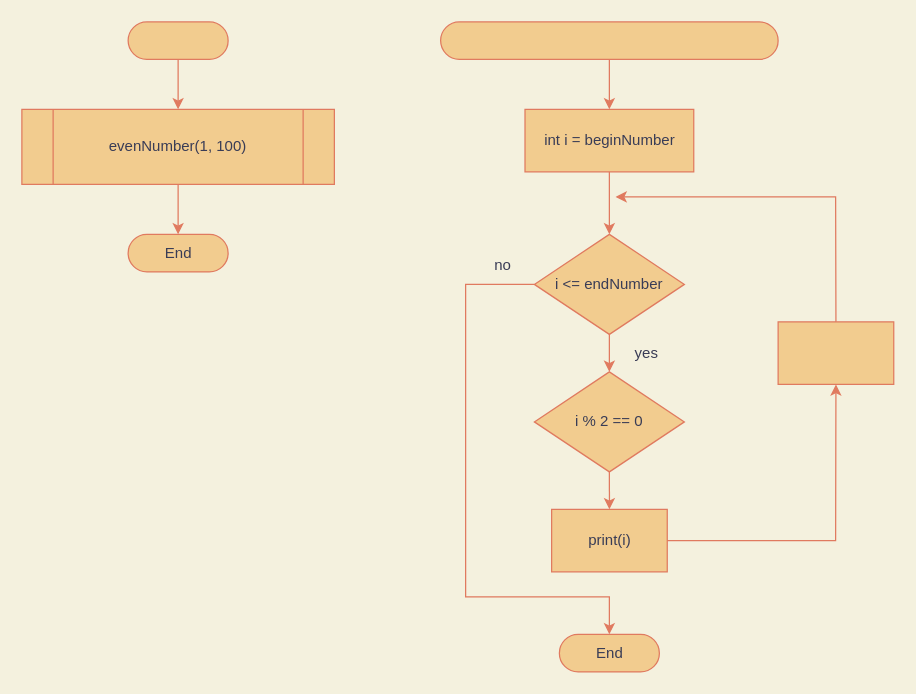
Image size: 916x694. Some labels were removed from this diagram. Here are the shapes that lost their labels. From the top down, the centre of each, then its label:
pixel 177 40: Start
pixel 608 40: evenNumber(int beginNumber, int endNumber)
pixel 835 352: i++
